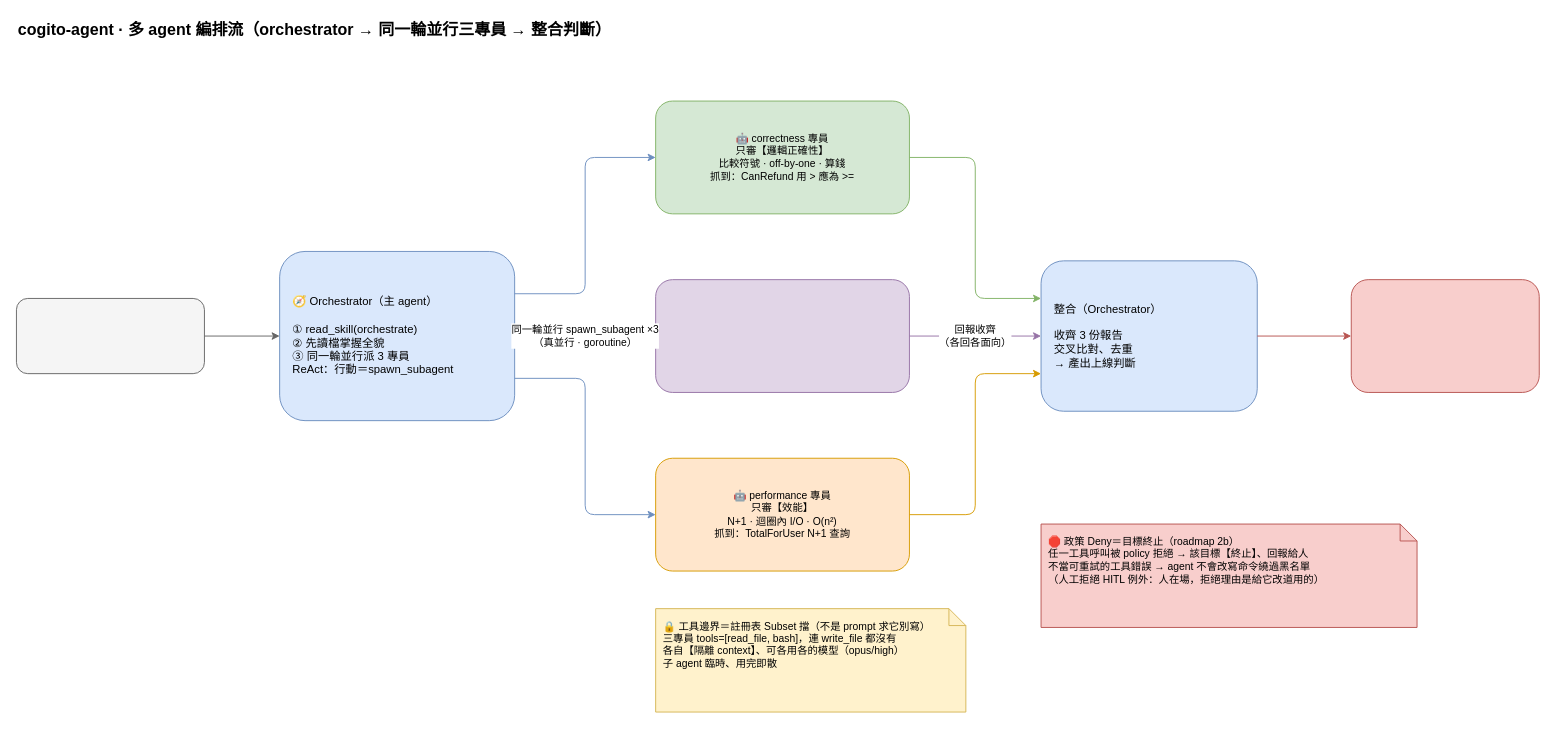
Image size: 1556x729. Some labels were removed from this diagram. The shapes that lost their labels are listed below. From the top down, each one's centre as x and y in pixels, then its label:
At point 110,336: "使用者任務 「審 review-target/payment.go 能不能上線」".
At point 782,335: "🤖 security-auditor 專員 只審【安全】 注入 · 憑證外洩 · 授權繞過 抓到：SQL 注入 + 硬編碼憑證".
At point 1444,335: "🚫 不可上線（NO-GO） 2 Critical + 1 Bug + 1 效能瓶頸".
